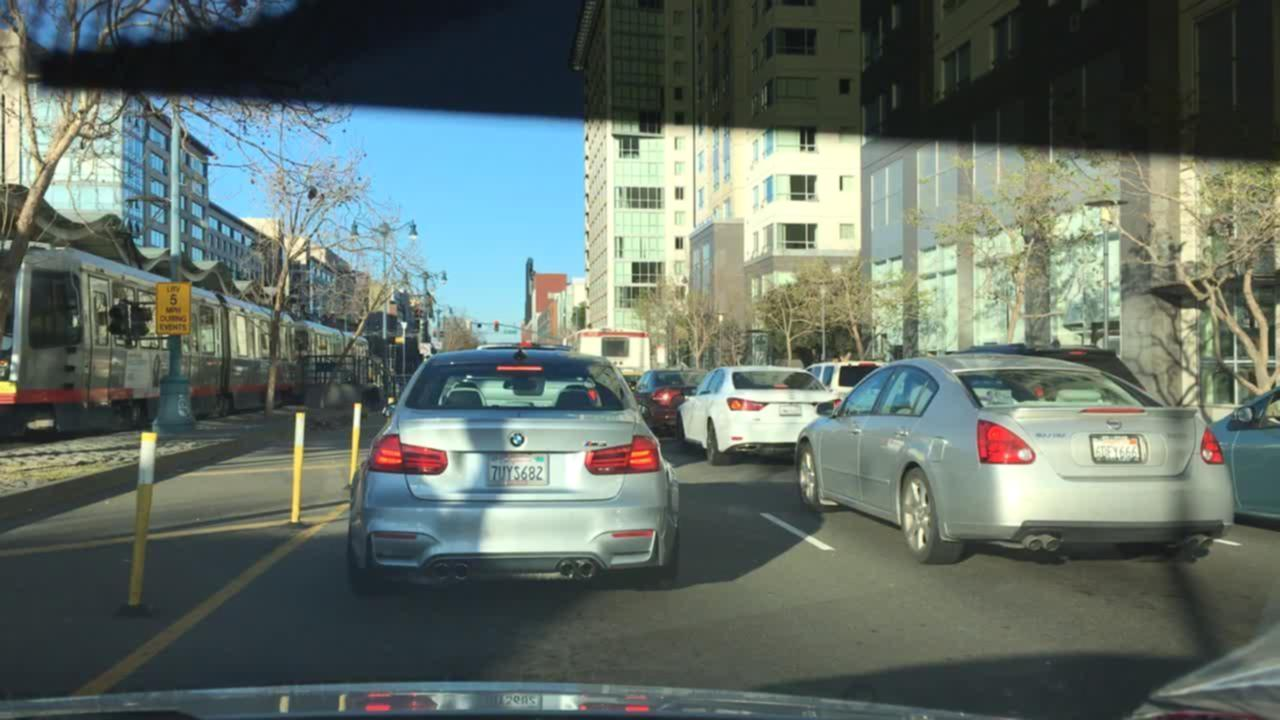Nissan: (1103, 416, 1128, 432)
bmw: (507, 416, 531, 456)
